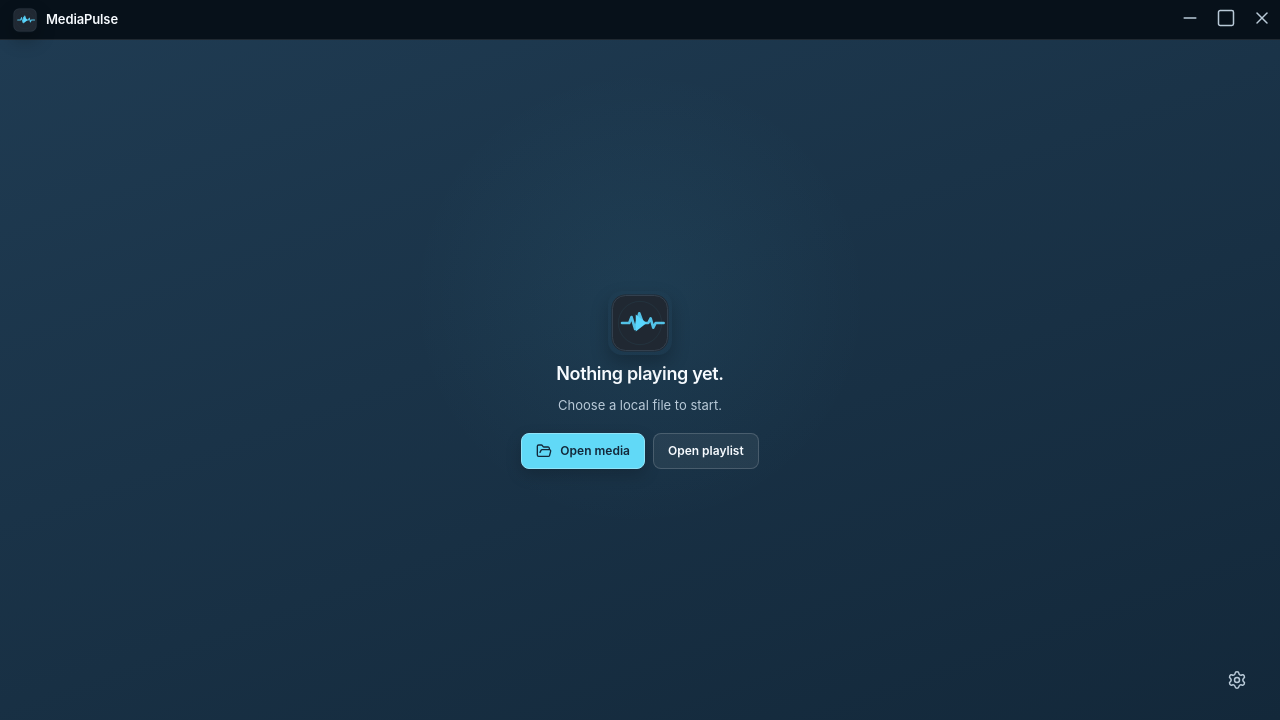
MediaPulse player › does not repeat the playlist action while the queue is open
This screenshot has width=1280, height=720.
Step 1. Click the button "Open playlist" → click(706, 451), box x1=653 y1=433 x2=759 y2=469
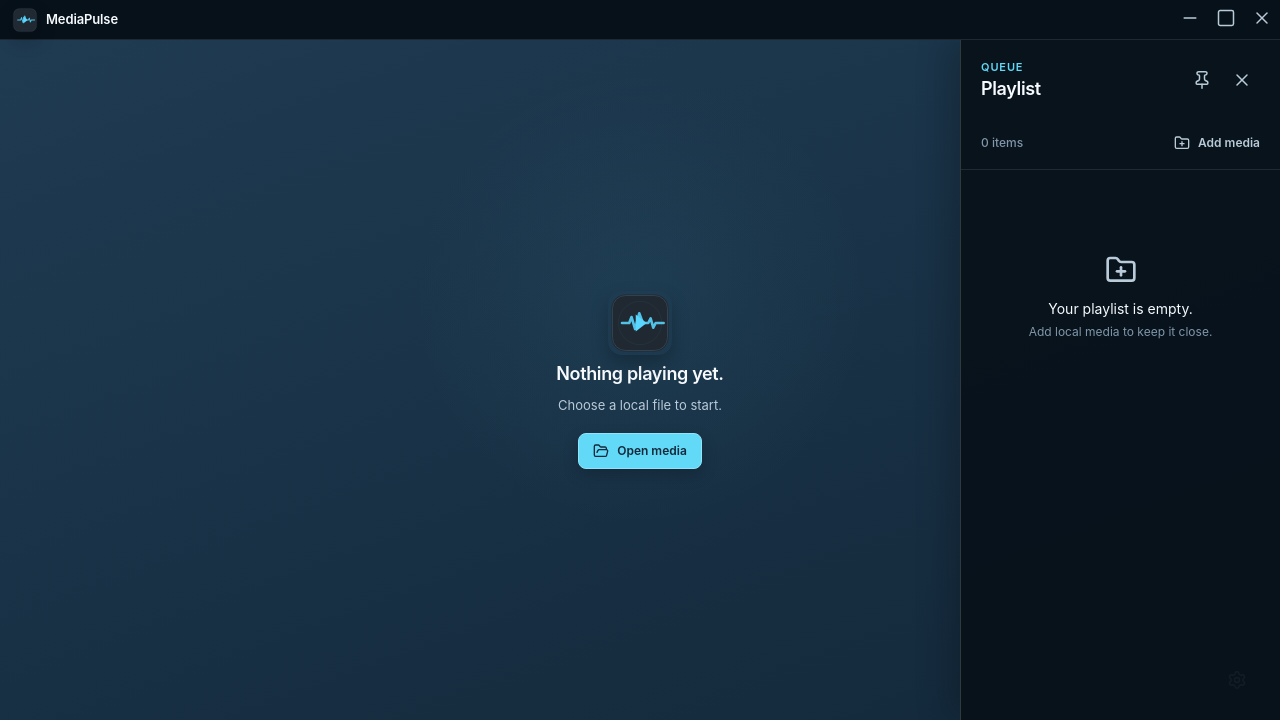
expect the button "Open playlist" is gone: met
